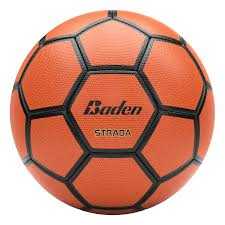football ball: (9, 8, 219, 217)
